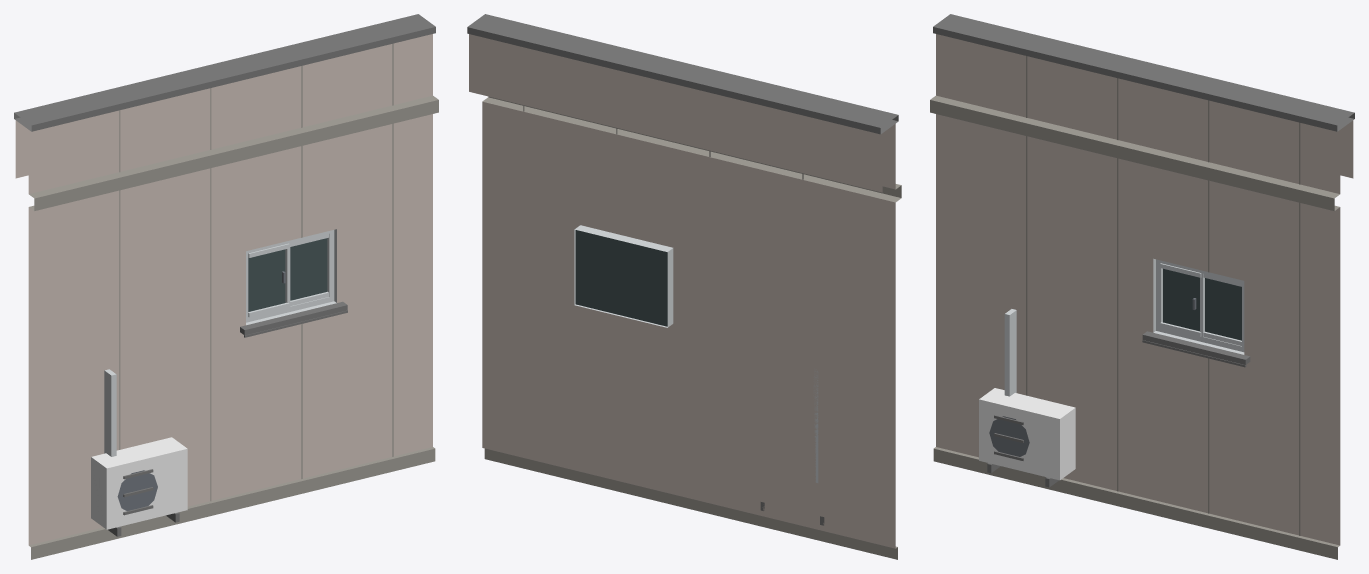
File: base-w2_close.fbx
3 views of the same model, side by side, from view 1: azimuth 30°, elevation 25°; view 2: azimuth 150°, elevation 25°; view 3: azimuth 330°, elevation 25° (orthographic). The views are drawn at different scales.
Parts seen in each view (by area): view 1: a2003/0/base-w2_close; view 2: a2003/0/base-w2_close; view 3: a2003/0/base-w2_close.
Part boxes in pixels (x1,y1,x2,y2): a2003/0/base-w2_close: [14, 14, 438, 559]; a2003/0/base-w2_close: [467, 14, 901, 559]; a2003/0/base-w2_close: [930, 14, 1354, 559].
Bounding box in the file's own units: 4 × 4.11 × 0.57.
